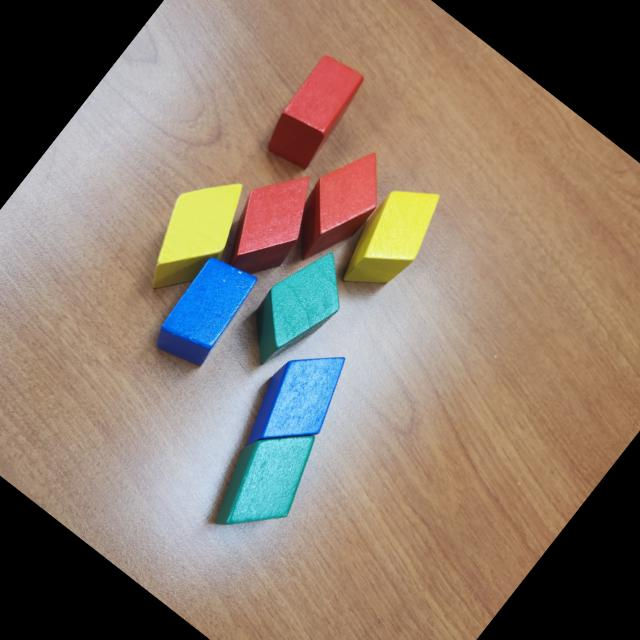blue: (229, 331, 365, 476), (146, 246, 266, 376)
green: (195, 404, 336, 556), (230, 236, 365, 384)
red: (272, 136, 402, 277), (206, 152, 334, 290), (257, 49, 373, 176)
yellow: (125, 160, 262, 308), (328, 170, 455, 308)
